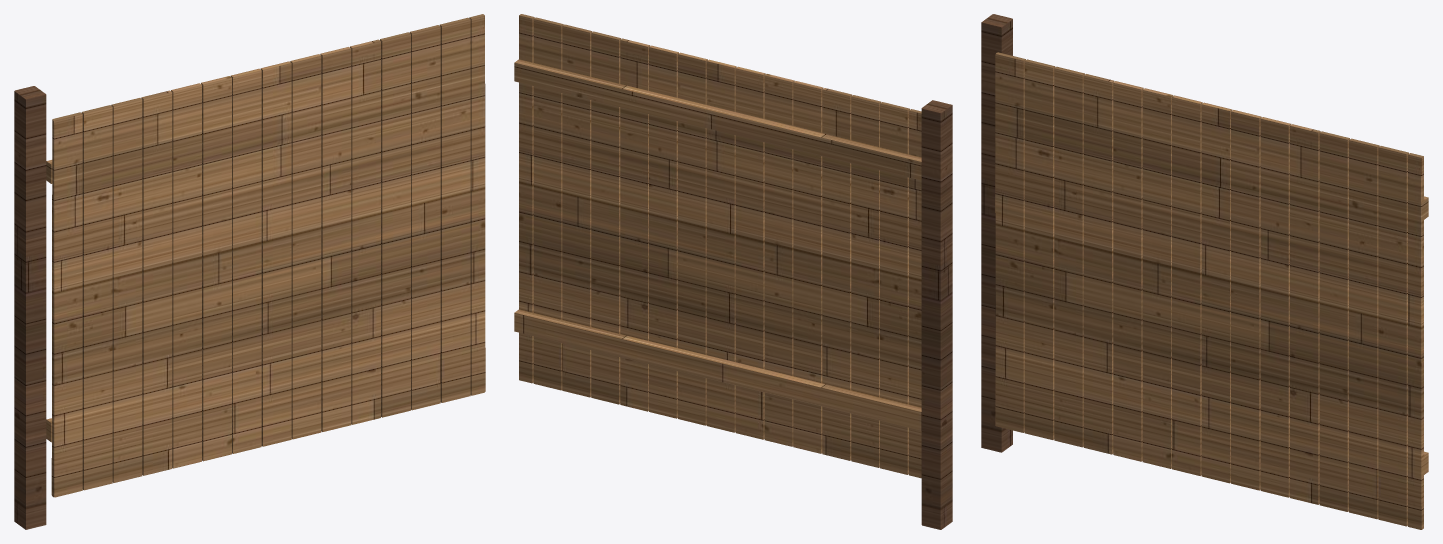
Rendered from fence_s.glb.
The picture shows the model from 3 angles, left to right: view 1: azimuth 30°, elevation 25°; view 2: azimuth 150°, elevation 25°; view 3: azimuth 330°, elevation 25°; orthographic projection. The views are drawn at different scales.
Visible parts, largest first — view 1: fence_s_wood, fence_s_dkwood; view 2: fence_s_wood, fence_s_dkwood; view 3: fence_s_wood, fence_s_dkwood.
Boxes of the visible parts, x1,y1,x2,y2 form: fence_s_wood: [46, 14, 485, 497]; fence_s_dkwood: [14, 86, 46, 529]; fence_s_wood: [514, 14, 921, 478]; fence_s_dkwood: [921, 100, 952, 529]; fence_s_wood: [995, 52, 1428, 529]; fence_s_dkwood: [981, 14, 1012, 452].
Size of the model in its own units: 2.2 by 2 by 0.16.
Materials: 2 (2 with a texture image).
